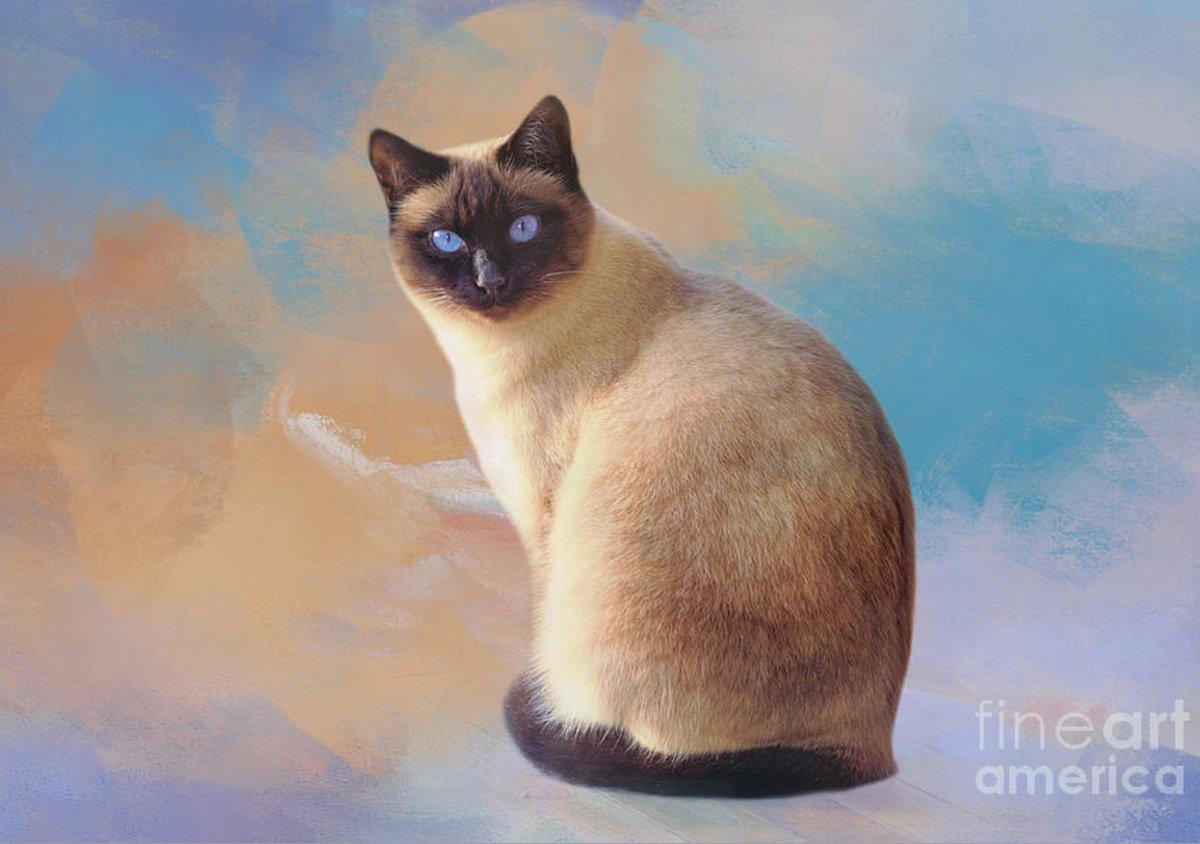siamese: (365, 90, 602, 334)
